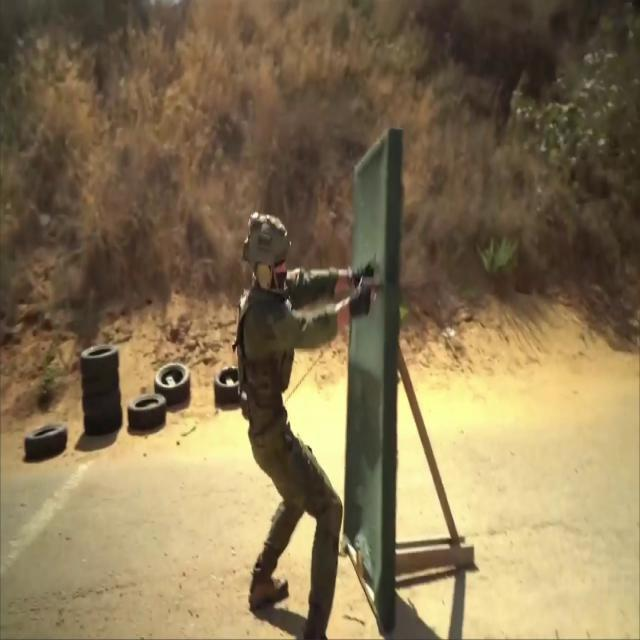weapon: (360, 278, 389, 294)
